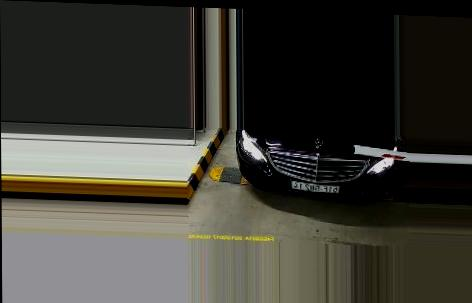License_Plate: (287, 179, 341, 195)
